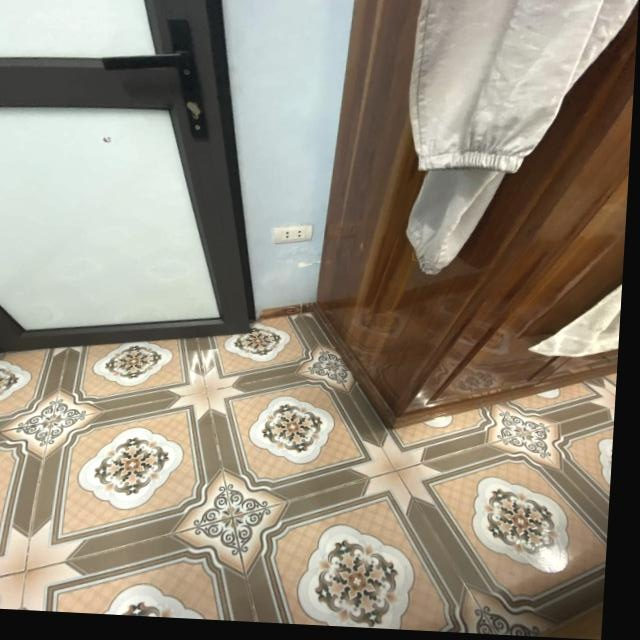outlet: (273, 222, 314, 246)
